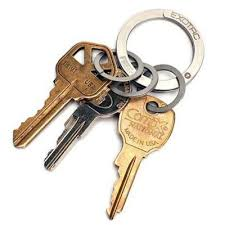kicharina: (11, 40, 115, 152)
